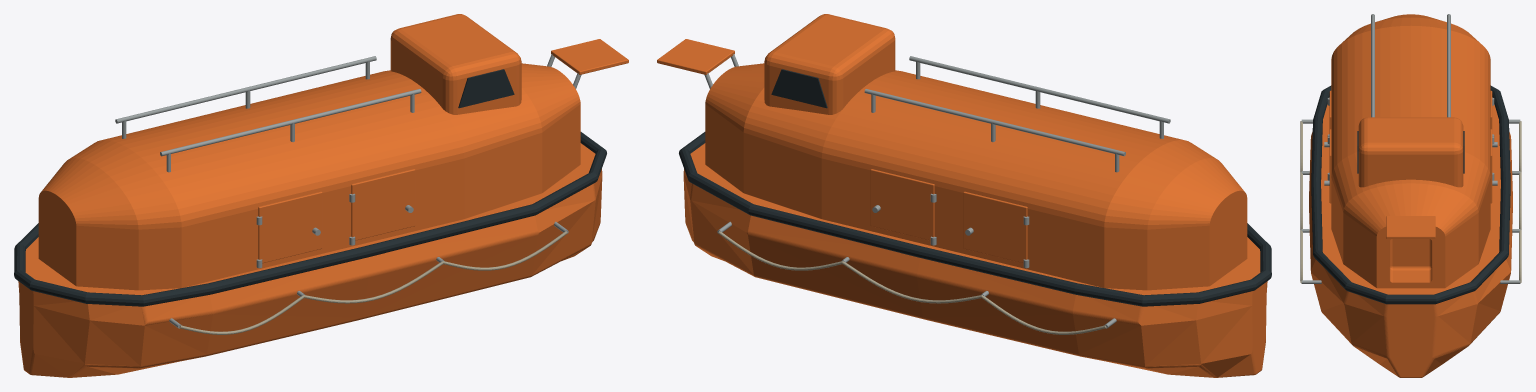
The model's file is full.glb.
3 renders of one model, left to right at view 1: azimuth 30°, elevation 25°; view 2: azimuth 150°, elevation 25°; view 3: azimuth 270°, elevation 25°, orthographic. The views are drawn at different scales.
Parts seen in each view (by area): view 1: Long enclosed hard cabin, Generic closed rigid hull, Continuous dark rubrail, Raised pilothouse, Side door -1 -0.85, Side door -1 0.35, Open end hatch cover, Continuous side grab rope -1, Dark trapezoid window -1, Narrow upper rail 1, Narrow upper rail -1; view 2: Long enclosed hard cabin, Generic closed rigid hull, Continuous dark rubrail, Raised pilothouse, Side door 1 -0.85, Side door 1 0.35, Open end hatch cover, Continuous side grab rope 1, Dark trapezoid window 1, Narrow upper rail -1, Narrow upper rail 1; view 3: Long enclosed hard cabin, Generic closed rigid hull, Raised pilothouse, Continuous dark rubrail, Open end hatch cover, Continuous side grab rope -1, Continuous side grab rope 1, Narrow upper rail -1, Narrow upper rail 1, Side door -1 0.35, Side door 1 0.35.
Part boxes in pixels (x1,y1,x2,y2): Long enclosed hard cabin: (38,63,580,290); Generic closed rigid hull: (18,143,602,377); Continuous dark rubrail: (14,132,606,306); Raised pilothouse: (390,14,521,114); Side door -1 -0.85: (258,191,322,263); Side door -1 0.35: (351,169,415,240); Open end hatch cover: (551,39,628,74); Continuous side grab rope -1: (179,231,567,334); Dark trapezoid window -1: (458,69,514,108); Narrow upper rail 1: (115,56,376,123); Narrow upper rail -1: (160,89,421,156); Long enclosed hard cabin: (705,63,1247,290); Generic closed rigid hull: (683,143,1267,377); Continuous dark rubrail: (679,132,1271,306); Raised pilothouse: (764,14,895,114); Side door 1 -0.85: (963,191,1027,263); Side door 1 0.35: (870,169,934,240); Open end hatch cover: (657,39,734,74); Continuous side grab rope 1: (718,231,1106,334); Dark trapezoid window 1: (771,69,827,108); Narrow upper rail -1: (909,56,1170,123); Narrow upper rail 1: (864,89,1125,156); Long enclosed hard cabin: (1331,14,1490,288); Generic closed rigid hull: (1309,104,1512,377); Raised pilothouse: (1358,117,1463,187); Continuous dark rubrail: (1311,85,1510,304); Open end hatch cover: (1386,216,1435,238); Continuous side grab rope -1: (1300,121,1302,283); Continuous side grab rope 1: (1519,121,1521,283); Narrow upper rail -1: (1371,14,1374,117); Narrow upper rail 1: (1447,14,1450,117); Side door -1 0.35: (1329,129,1331,203); Side door 1 0.35: (1490,129,1492,203).
Size of the model in its own units: 7.66 by 2.81 by 2.92.
